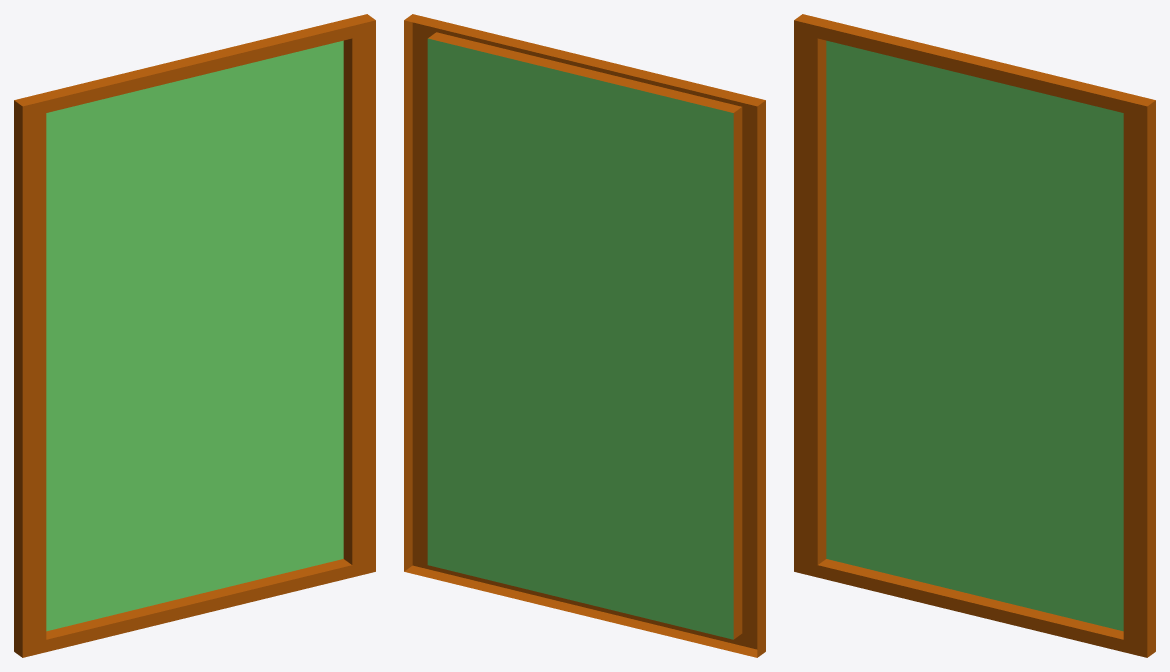
Rendered from PosterB_003.fbx.
3 views of the same model, side by side, from view 1: azimuth 30°, elevation 25°; view 2: azimuth 150°, elevation 25°; view 3: azimuth 330°, elevation 25° (orthographic).
Visible parts, largest first — view 1: PosterB_003; view 2: PosterB_003; view 3: PosterB_003.
Part boxes in pixels (x1,y1,x2,y2): PosterB_003: (14, 14, 375, 657); PosterB_003: (404, 14, 765, 657); PosterB_003: (794, 14, 1155, 657).
Bounding box in the file's own units: 166 × 248 × 7.
